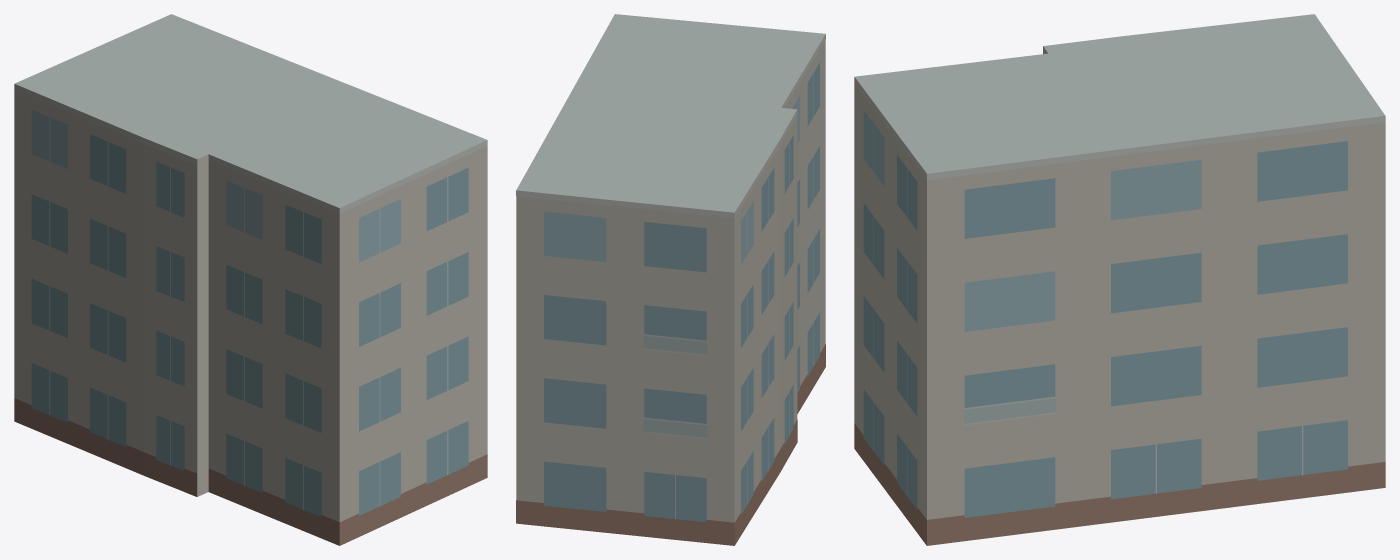
The model's file is survey-upis-32909755.glb.
3 views of the same model, side by side, from view 1: azimuth 30°, elevation 25°; view 2: azimuth 150°, elevation 25°; view 3: azimuth 270°, elevation 25° (orthographic). The views are drawn at different scales.
Parts seen in each view (by area): view 1: survey-upis-32909755.tmp; view 2: survey-upis-32909755.tmp; view 3: survey-upis-32909755.tmp.
Part boxes in pixels (left/top/right/bottom): survey-upis-32909755.tmp: left=14, top=14, right=487, bottom=545; survey-upis-32909755.tmp: left=516, top=14, right=825, bottom=545; survey-upis-32909755.tmp: left=854, top=14, right=1385, bottom=545.
Size of the model in its own units: 13.14 by 14.25 by 18.44.
